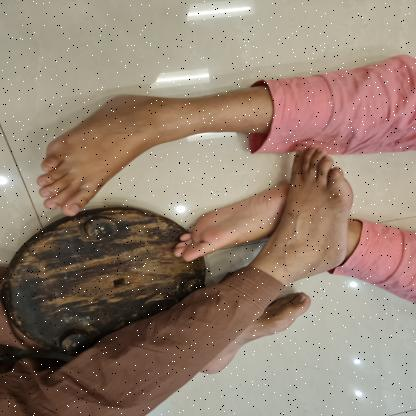leg: (29, 80, 272, 222), (251, 138, 376, 280), (194, 284, 321, 382), (167, 171, 290, 266)
